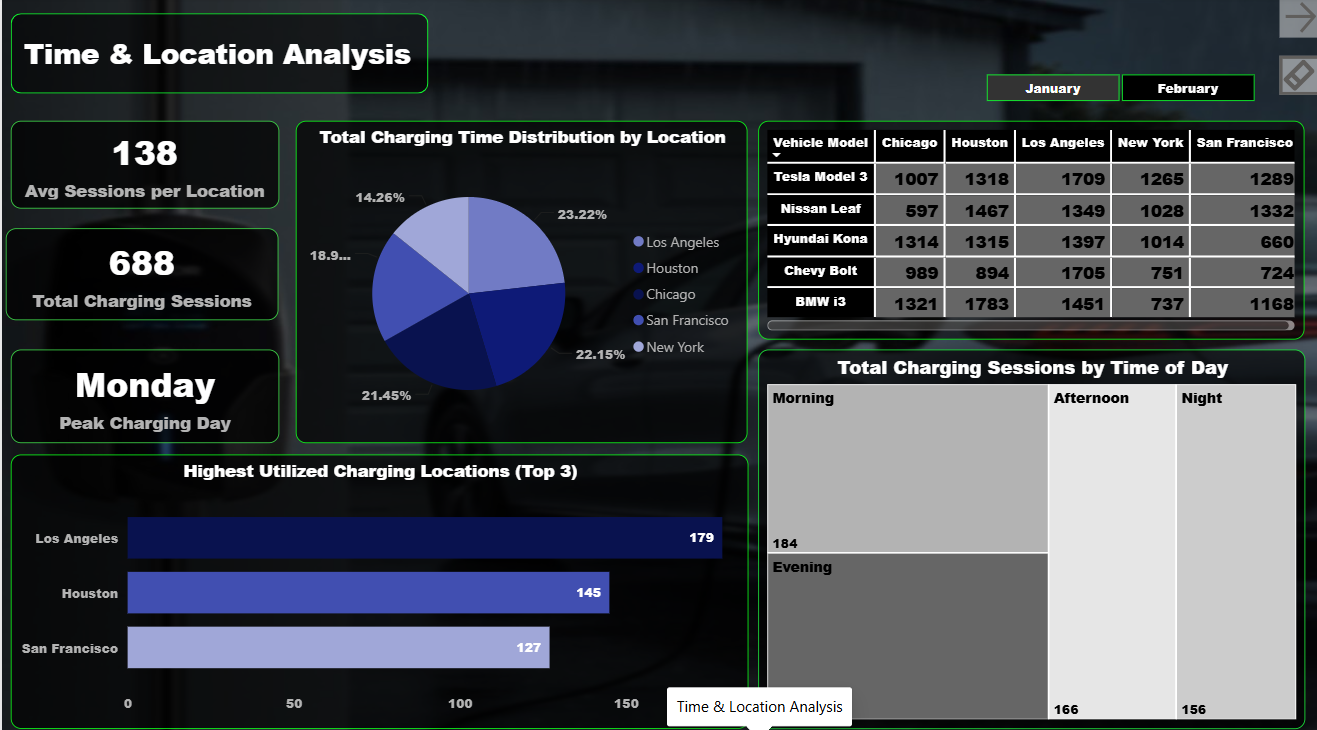

What the dashboard file says about the page in this screenshot:
{"tool":"powerbi","page":{"name":"Time & Location Analysis","canvas":[1280,720],"ordinal":2},"visuals":[{"type":"shape","box":[7.9,15.8,403.1,77.5],"z":0},{"type":"textbox","box":[4.7,30,406.2,49],"z":1000},{"type":"card","fields":{"Values":["Calculated-tbl.Total Charging Sessions"]},"box":[4.1,223.7,263.5,89.2],"z":2000},{"type":"card","fields":{"Values":["Calculated-tbl.Avg Sessions per Location"]},"box":[8.9,119.1,259,84.9],"z":3000},{"type":"card","fields":{"Values":["Calculated-tbl.Peak Charging Day"]},"box":[8.2,340.3,259.3,90.6],"z":4000},{"type":"treemap","fields":{"Group":["Dim_period.Time of Day"],"Values":["Calculated-tbl.Total Charging Sessions"]},"box":[730,340.3,528.3,366.4],"z":5000},{"type":"barChart","title":"Highest Utilized Charging Locations (Top 3)","fields":{"Category":["Dim_Location.Charging Station Location"],"Y":["Calculated-tbl.Total Charging Sessions"]},"box":[8.2,441.9,712.2,264.8],"z":6000},{"type":"pieChart","title":"Total Charging Time Distribution by Location","fields":{"Category":["Dim_Location.Charging Station Location"],"Y":["Calculated-tbl.Total Charging Time(hr)"]},"box":[284,119.4,436.4,311.5],"z":7000},{"type":"actionButton","box":[1232.6,0,47.4,39.5],"z":9000},{"type":"actionButton","box":[1232.6,56.9,47.4,37.9],"z":10000},{"type":"pivotTable","fields":{"Columns":["Dim_Location.Charging Station Location"],"Rows":["Dim_Vehicle.Vehicle Model"],"Values":["Calculated-tbl.Total Energy Consumed(kWh)"]},"box":[730,119.4,526.9,211.3],"z":11000},{"type":"slicer","fields":{"Values":["Fact_EV.Charging Start Date.Variation.Date Hierarchy.Month"]},"box":[924.1,67.6,308.8,38.6],"z":11001}]}

Visuals, with their boxes in screenshot pixels (x1, y1, x2, y2), scaled from the page's 1280x720 canvas onto the 1317x730 screenshot:
shape: <bbox>8, 16, 423, 95</bbox>
textbox: <bbox>5, 30, 423, 80</bbox>
card - Calculated-tbl.Total Charging Sessions: <bbox>4, 227, 275, 317</bbox>
card - Calculated-tbl.Avg Sessions per Location: <bbox>9, 121, 276, 207</bbox>
card - Calculated-tbl.Peak Charging Day: <bbox>8, 345, 275, 437</bbox>
treemap - Dim_period.Time of Day x Calculated-tbl.Total Charging Sessions: <bbox>751, 345, 1295, 717</bbox>
"Highest Utilized Charging Locations (Top 3)" barChart: <bbox>8, 448, 741, 717</bbox>
"Total Charging Time Distribution by Location" pieChart: <bbox>292, 121, 741, 437</bbox>
actionButton: <bbox>1268, 0, 1316, 40</bbox>
actionButton: <bbox>1268, 58, 1316, 96</bbox>
pivotTable - Dim_Location.Charging Station Location x Dim_Vehicle.Vehicle Model: <bbox>751, 121, 1293, 335</bbox>
slicer - Fact_EV.Charging Start Date.Variation.Date Hierarchy.Month: <bbox>951, 69, 1269, 108</bbox>
